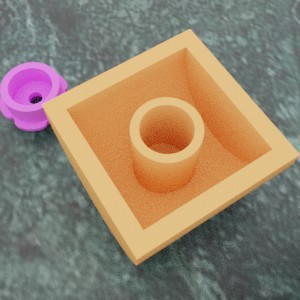lego: (41, 28, 300, 265), (0, 62, 70, 131)
